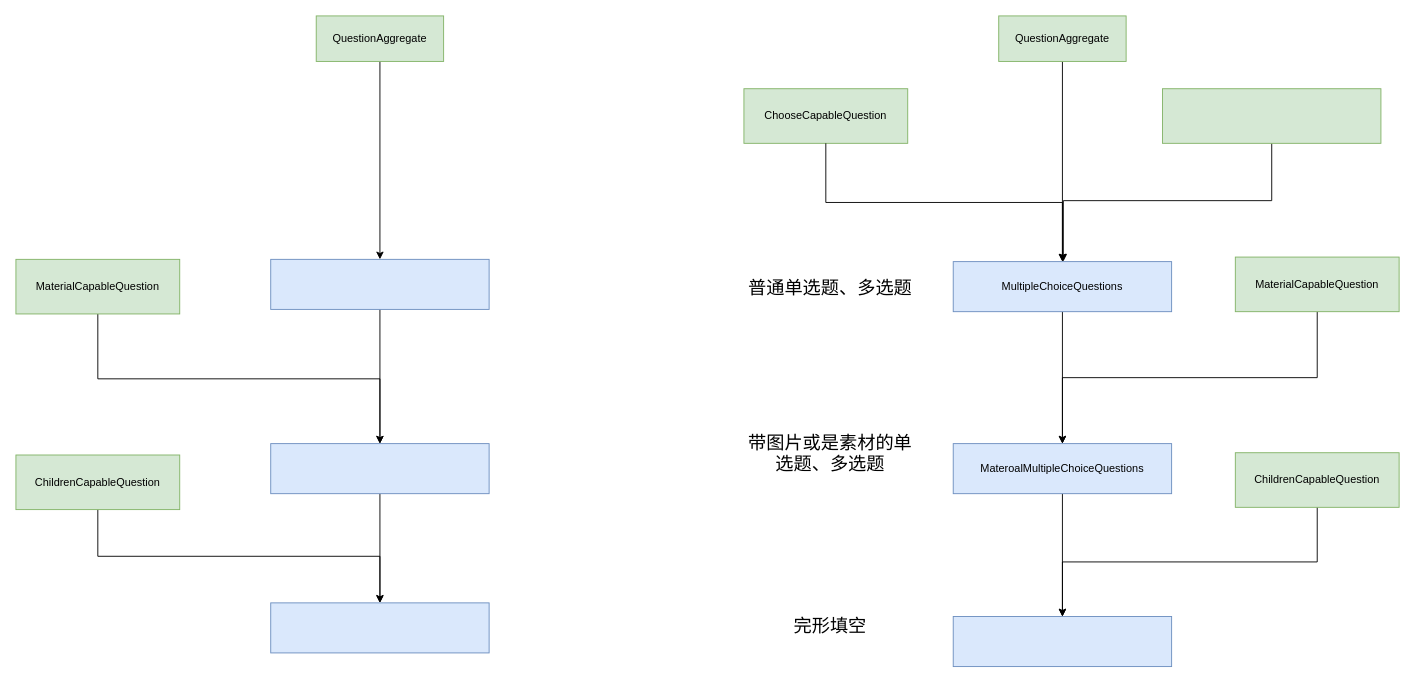
The diagram is 1415 pixels wide and 683 high, and some of its shapes have lost their labels. Here are the shapes that lost their labels. From the top down, the centre of each, then its label:
At point (1271, 115): "CandidateAnswerCapableQuestion".
At point (379, 283): "FillBlankQuestions".
At point (379, 468): "MaterialFillBlankQuestions".
At point (379, 627): "MaterialFillBlankChildrenQuestions".
At point (1062, 641): "MateroalMultipleChoiceChildrenQuestions".
